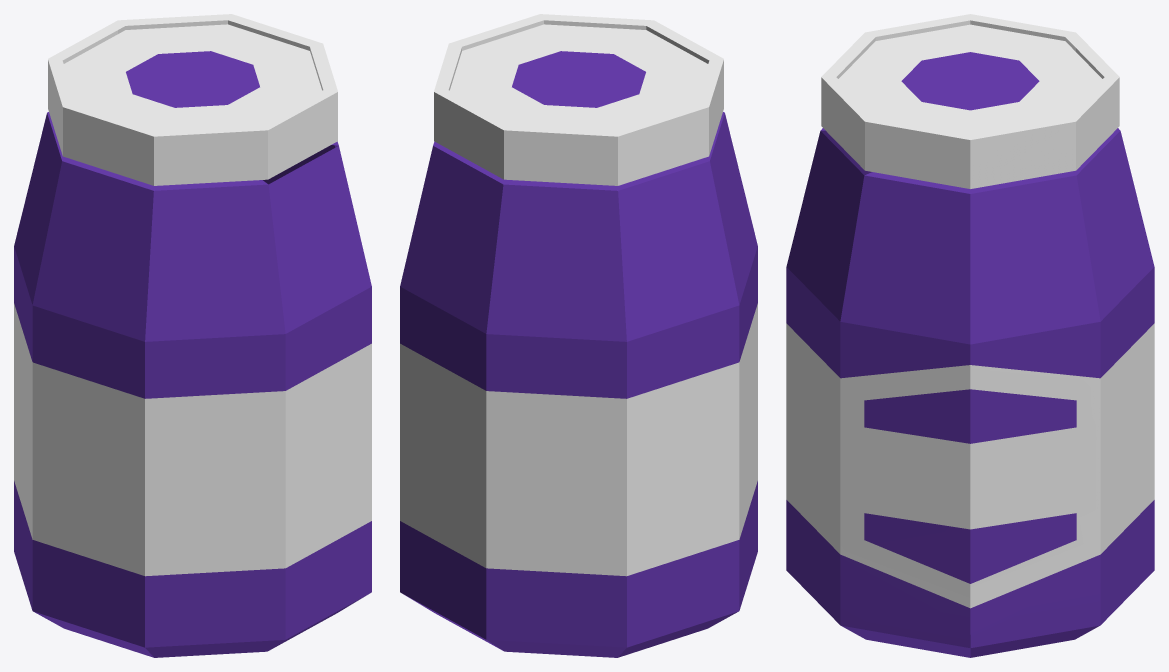
File: bottle2.fbx
3 views of the same model, side by side, from view 1: azimuth 30°, elevation 25°; view 2: azimuth 150°, elevation 25°; view 3: azimuth 270°, elevation 25° (orthographic).
Visible parts, largest first — view 1: Circle.002_Circle.002; view 2: Circle.002_Circle.002; view 3: Circle.002_Circle.002.
Boxes of the visible parts, box(x1,y1,x2,y2) form: Circle.002_Circle.002: box(14, 14, 371, 657); Circle.002_Circle.002: box(400, 14, 757, 657); Circle.002_Circle.002: box(786, 14, 1154, 657).
Size of the model in its own units: 362 by 563 by 362.
